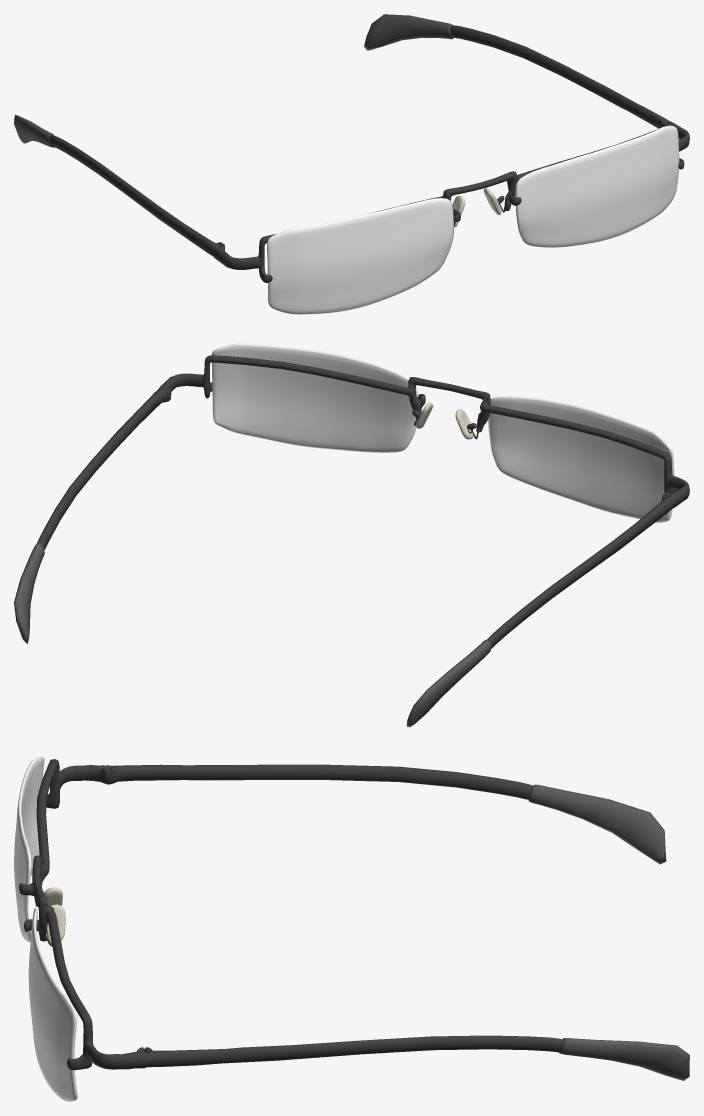
File: glasses.glb
3 renders of one model, top to bottom at view 1: azimuth 30°, elevation 25°; view 2: azimuth 150°, elevation 25°; view 3: azimuth 270°, elevation 25°, orthographic. The views are drawn at different scales.
Visible parts, largest first — view 1: rightlent_Plane.001, leftlent_Plane.002, body_Cube, leftside_Cube.010, rightside_Cube.009; view 2: leftlent_Plane.002, rightlent_Plane.001, body_Cube, rightside_Cube.009, leftside_Cube.010; view 3: body_Cube, leftlent_Plane.002, rightside_Cube.009, leftside_Cube.010, rightlent_Plane.001.
Boxes of the visible parts, x1,y1,x2,y2 form: rightlent_Plane.001: (267,198,453,314); leftlent_Plane.002: (515,125,679,247); body_Cube: (49,25,689,282); leftside_Cube.010: (364,14,452,50); rightside_Cube.009: (14,114,54,147); leftlent_Plane.002: (211,343,418,452); rightlent_Plane.001: (488,396,674,522); body_Cube: (37,355,689,648); rightside_Cube.009: (406,640,491,727); leftside_Cube.010: (14,543,44,643); body_Cube: (19,759,564,1070); leftlent_Plane.002: (28,907,77,1101); rightside_Cube.009: (528,784,666,864); leftside_Cube.010: (559,1038,689,1080); rightlent_Plane.001: (14,756,44,942).
Bounding box in the file's own units: 7.52 × 1.42 × 7.32.
